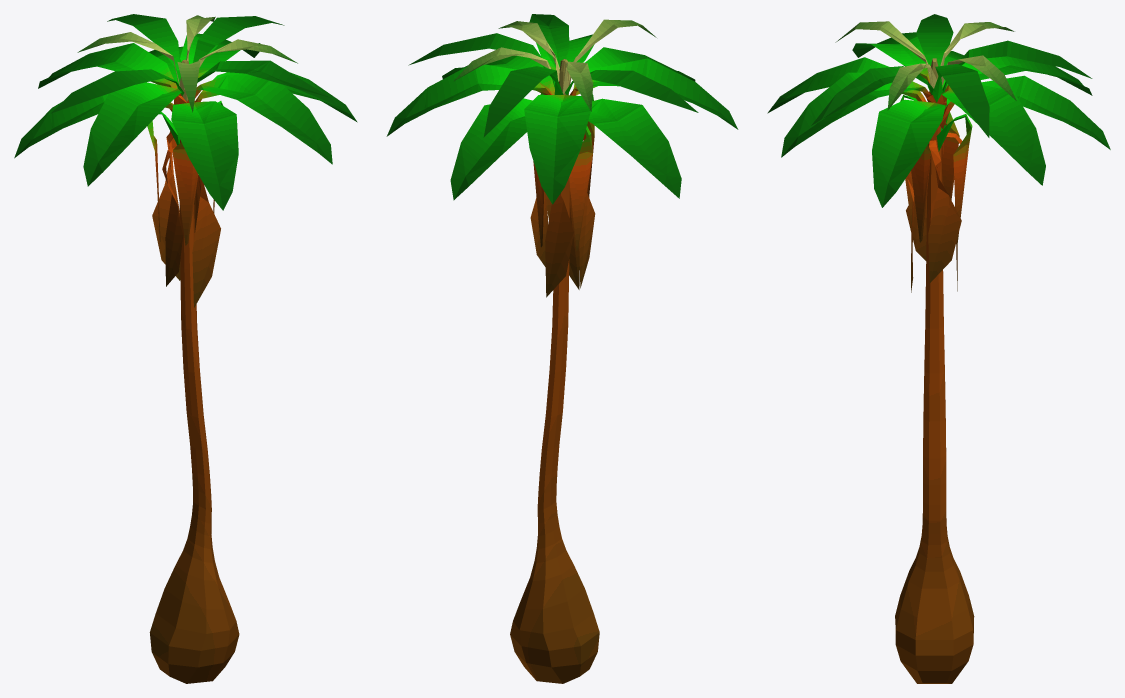
Rendered from StrangePalm.glb.
3 views of the same model, side by side, from view 1: azimuth 30°, elevation 25°; view 2: azimuth 150°, elevation 25°; view 3: azimuth 270°, elevation 25° (orthographic).
Parts seen in each view (by area): view 1: PalmLeaveDeafalt.1; view 2: PalmLeaveDeafalt.1; view 3: PalmLeaveDeafalt.1.
Part boxes in pixels (left/top/right/bottom): PalmLeaveDeafalt.1: left=14, top=14, right=357, bottom=683; PalmLeaveDeafalt.1: left=386, top=14, right=738, bottom=683; PalmLeaveDeafalt.1: left=767, top=14, right=1110, bottom=683.
Size of the model in its own units: 807 by 1709 by 834.
1 material, 1 textured.
